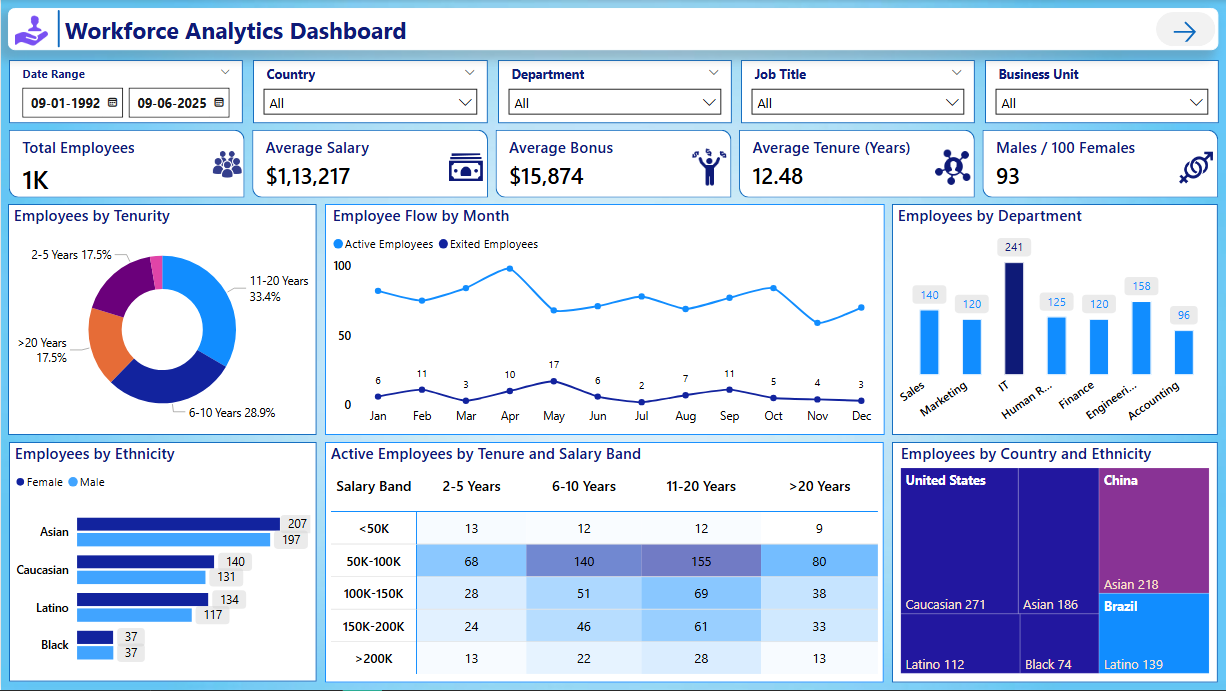

The dashboard page shown, as its layout file describes it:
{"tool":"powerbi","page":{"name":"Workforce Summary","canvas":[1280,720],"ordinal":0},"visuals":[{"type":"group","id":"g1","title":"Group 1","box":[7.7,8.3,1263,43.8],"z":0,"group":"g3"},{"type":"textbox","box":[7.7,8.3,1263,43.8],"z":0,"group":"g1"},{"type":"cardVisual","fields":{"Data":["_Measures.Total Employees","_Measures.Average Salary","_Measures.Average Bonus amount","_Measures.Average Tenure","_Measures.Gender ration"]},"box":[3.3,130,1276,81],"z":1000},{"type":"group","id":"g2","title":"Group 2","box":[8.9,62.4,1262.5,65.6],"z":2000},{"type":"slicer","fields":{"Values":["DateTable.Date"]},"box":[8.9,62.4,244,65.6],"z":2000,"group":"g2"},{"type":"slicer","fields":{"Values":["EmployeesData.Country"]},"box":[263.3,62.4,245.1,65.6],"z":3000,"group":"g2"},{"type":"donutChart","title":"Employees by Tenurity","fields":{"Category":["EmployeesData.Tenure Bucket"],"Y":["_Measures.Total Employees"]},"box":[7.8,213,321.9,241],"z":3000},{"type":"slicer","fields":{"Values":["EmployeesData.Department"]},"box":[518.7,62.4,244,65.6],"z":4000,"group":"g2"},{"type":"clusteredBarChart","title":"Employees by Ethnicity","fields":{"Category":["EmployeesData.Ethnicity"],"Y":["_Measures.Total Employees"],"Series":["EmployeesData.Gender"]},"box":[8.8,461.7,320.5,250],"z":4000},{"type":"slicer","fields":{"Values":["EmployeesData.Job Title"]},"box":[773.1,62.4,244,65.6],"z":5000,"group":"g2"},{"type":"lineChart","title":"Employee Flow by Month","fields":{"Category":["DateTable.Month Name"],"Y":["_Measures.Active Emp","_Measures.Exited Emp"]},"box":[338.1,213.3,584,240.7],"z":5000},{"type":"slicer","fields":{"Values":["EmployeesData.Business Unit"]},"box":[1027.4,62.4,244,65.6],"z":6000,"group":"g2"},{"type":"pivotTable","title":"Active Employees by Tenure and Salary Band","fields":{"Rows":["SalaryBandTable.Salary Band"],"Columns":["TenureBucketTable.Tenure Bucket"],"Values":["_Measures.Active Emp"]},"box":[338.1,461.7,583.1,250.5],"z":6000},{"type":"clusteredColumnChart","title":"Employees by Department","fields":{"Category":["EmployeesData.Department"],"Y":["_Measures.Total Employees"]},"box":[929.9,213.3,340.2,240.7],"z":7000},{"type":"treemap","title":"Employees by Country and Ethnicity","fields":{"Group":["EmployeesData.Country"],"Values":["_Measures.Total Employees"],"Details":["EmployeesData.Ethnicity"]},"box":[929.9,461.7,340.2,250.5],"z":8000},{"type":"actionButton","title":"afsd","box":[1206,12,62.4,36],"z":9000,"group":"g3"},{"type":"shape","box":[54.9,10,12,39],"z":10000,"group":"g3"},{"type":"image","box":[9.2,8,46.9,46.9],"z":11000,"group":"g3"},{"type":"group","id":"g3","title":"Group 3","box":[7.7,8,1263,46.9],"z":11001}]}

Visuals, with their boxes in screenshot pixels (x1, y1, x2, y2), scaled from the page's 1280x720 canvas onto the 1226x691 screenshot:
"Group 1" group: (x1=7, y1=8, x2=1217, y2=50)
textbox: (x1=7, y1=8, x2=1217, y2=50)
cardVisual - _Measures.Total Employees x _Measures.Average Salary: (x1=3, y1=125, x2=1225, y2=203)
"Group 2" group: (x1=9, y1=60, x2=1218, y2=123)
slicer - DateTable.Date: (x1=9, y1=60, x2=242, y2=123)
slicer - EmployeesData.Country: (x1=252, y1=60, x2=487, y2=123)
"Employees by Tenurity" donutChart: (x1=7, y1=204, x2=316, y2=436)
slicer - EmployeesData.Department: (x1=497, y1=60, x2=731, y2=123)
"Employees by Ethnicity" clusteredBarChart: (x1=8, y1=443, x2=315, y2=683)
slicer - EmployeesData.Job Title: (x1=740, y1=60, x2=974, y2=123)
"Employee Flow by Month" lineChart: (x1=324, y1=205, x2=883, y2=436)
slicer - EmployeesData.Business Unit: (x1=984, y1=60, x2=1218, y2=123)
"Active Employees by Tenure and Salary Band" pivotTable: (x1=324, y1=443, x2=882, y2=684)
"Employees by Department" clusteredColumnChart: (x1=891, y1=205, x2=1217, y2=436)
"Employees by Country and Ethnicity" treemap: (x1=891, y1=443, x2=1217, y2=684)
"afsd" actionButton: (x1=1155, y1=12, x2=1215, y2=46)
shape: (x1=53, y1=10, x2=64, y2=47)
image: (x1=9, y1=8, x2=54, y2=53)
"Group 3" group: (x1=7, y1=8, x2=1217, y2=53)
